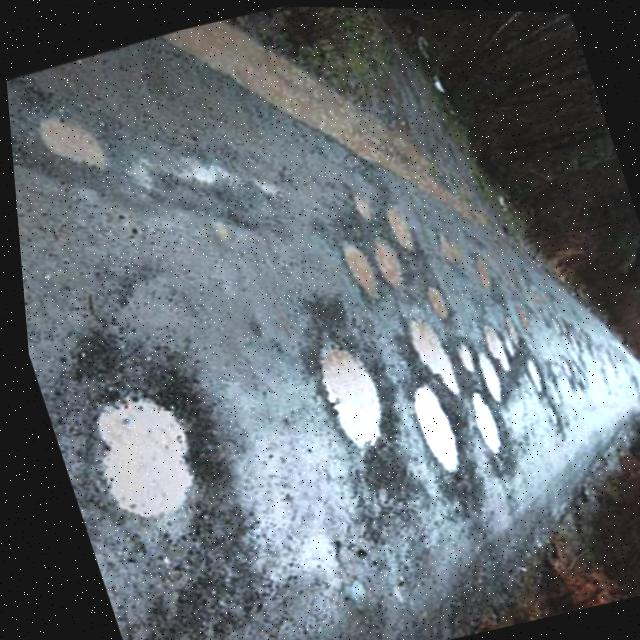Pothole: (50, 347, 243, 545), (295, 331, 400, 460), (393, 373, 465, 486), (27, 97, 114, 180), (402, 311, 461, 398), (455, 386, 506, 465), (331, 233, 382, 307), (465, 343, 504, 403), (364, 232, 408, 285), (472, 314, 507, 374), (377, 204, 412, 254), (466, 251, 496, 292), (418, 281, 449, 320), (431, 238, 465, 270), (344, 191, 373, 225), (534, 392, 559, 431), (446, 337, 474, 371), (497, 307, 521, 344), (516, 356, 540, 391), (551, 350, 571, 385)
